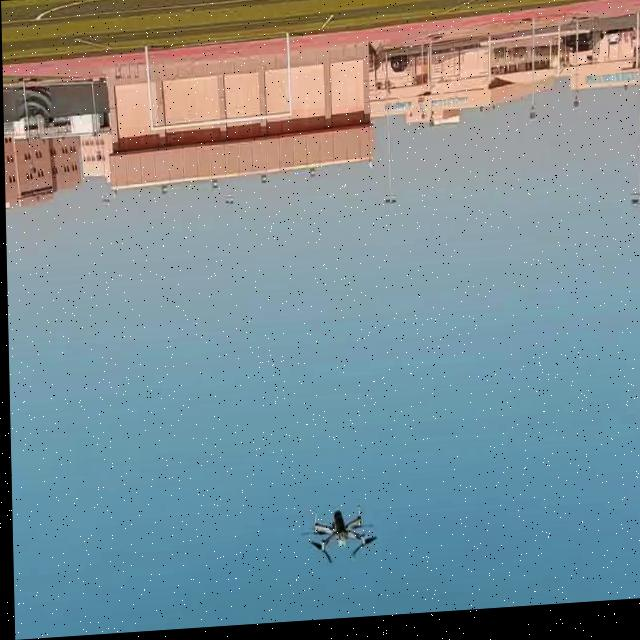drone: (302, 501, 381, 574)
